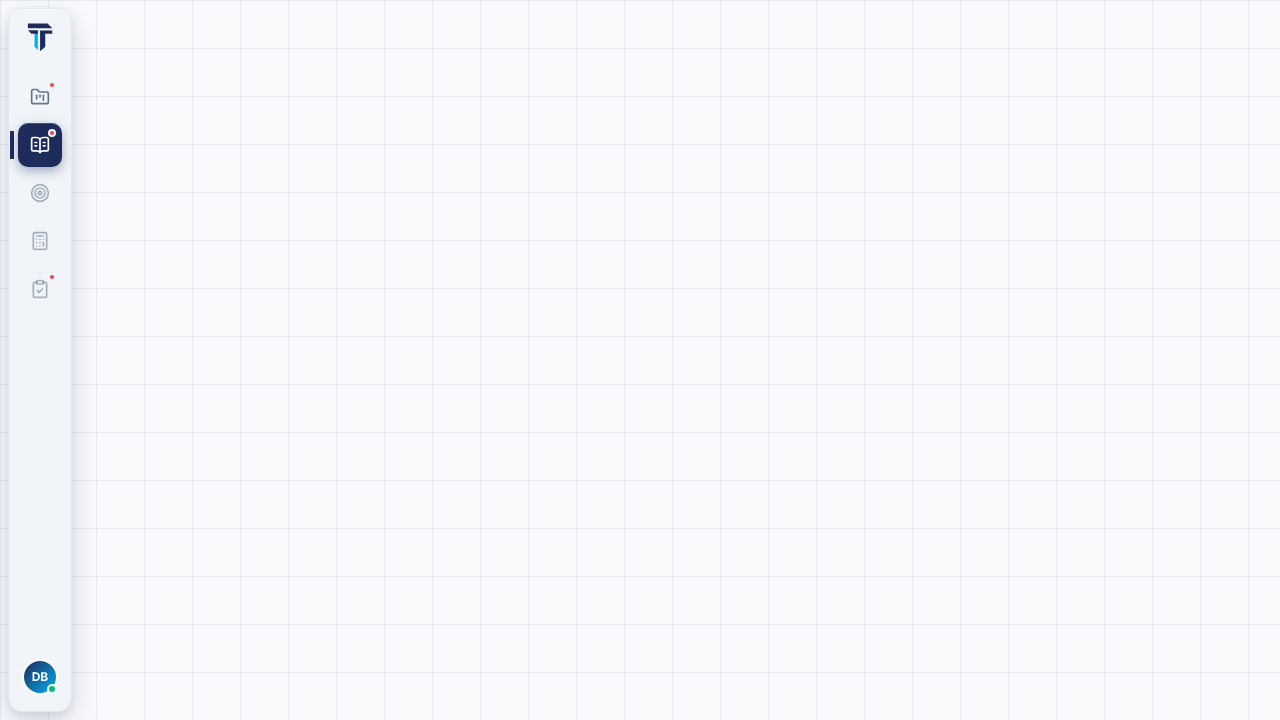
Test case: SidebarRailPanel › toggles the active panel when the Toolbox rail mark is clicked
The image size is (1280, 720).
Expected: the heading "accounting" is not shown
What coordinates should you click on to do the following:
click the button named "expand toolbox panel"
I would click on:
 (40, 37)
Its box is top-left (9, 9), bottom-right (71, 65).
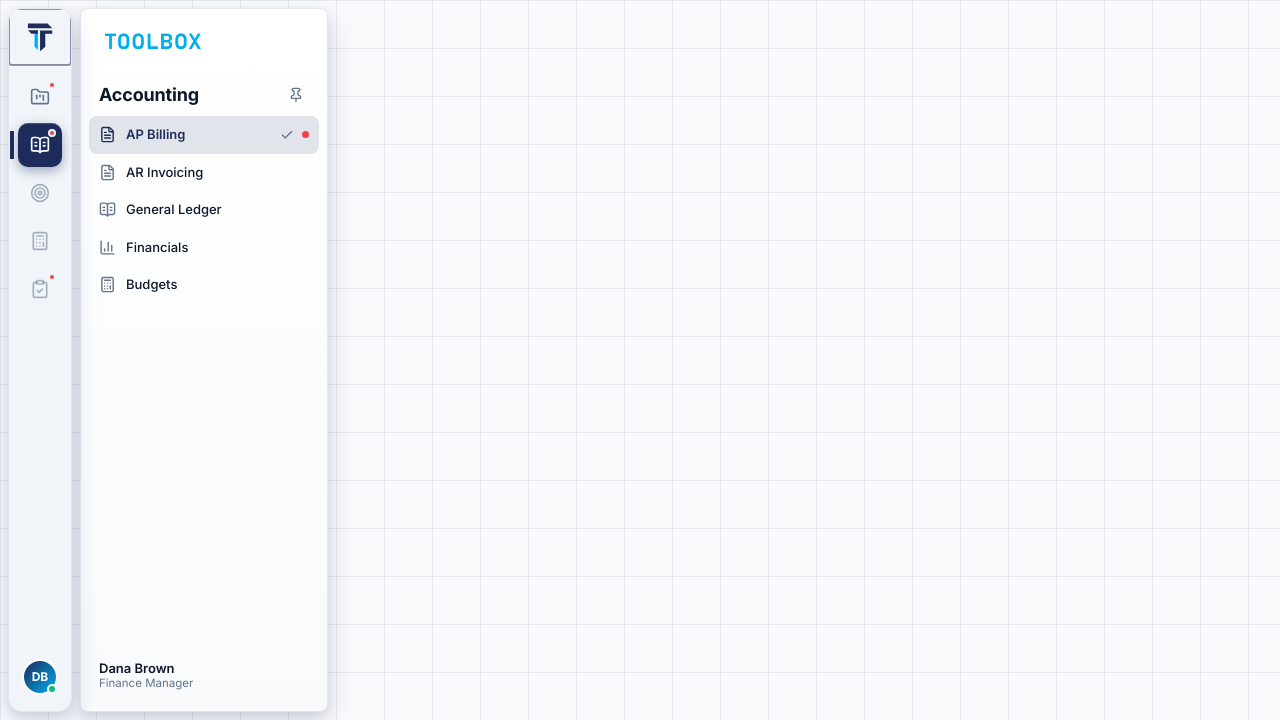
Expected: the heading "Accounting" is shown, top-left (99, 81), bottom-right (199, 108)
What coordinates should you click on to do the following:
click the button named "collapse toolbox panel"
I would click on:
 (40, 37)
Its box is top-left (9, 9), bottom-right (71, 65).
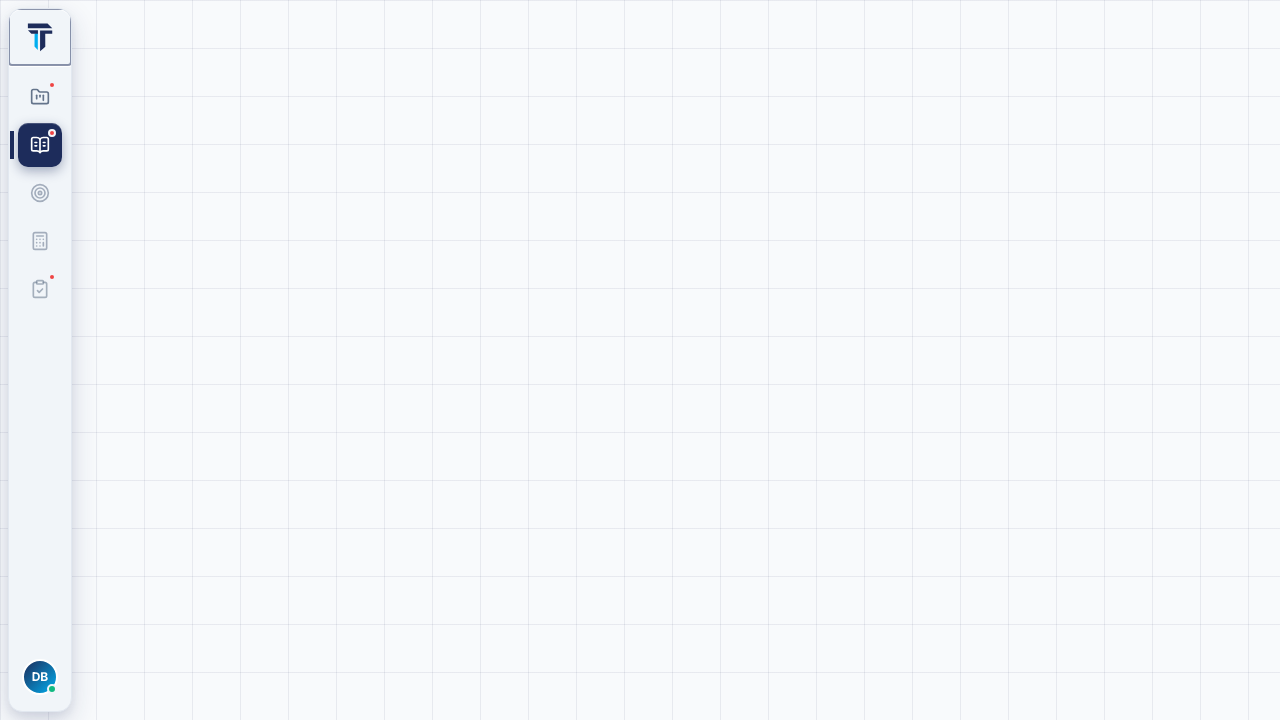
Expected: the heading "Accounting" is gone
